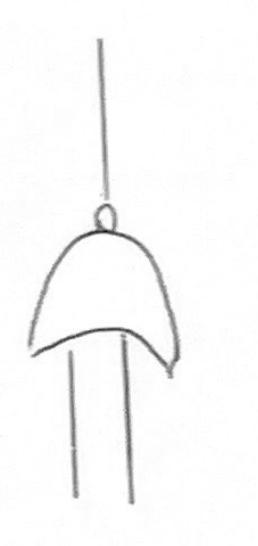NOR: (17, 200, 218, 390)
